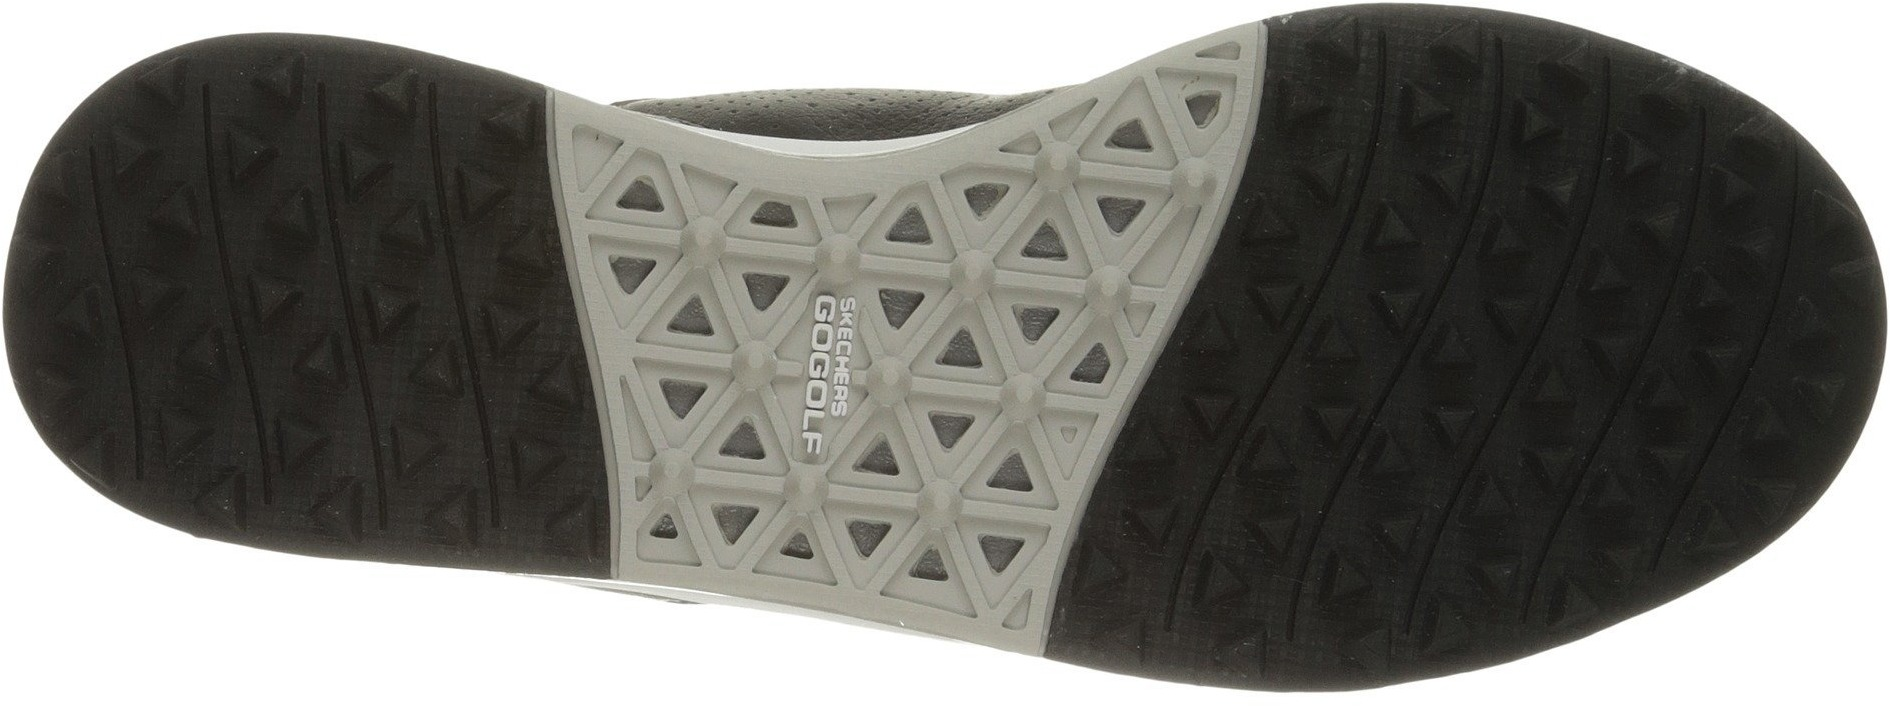text: (783, 361, 881, 467), (796, 286, 875, 358)
triangle: (1301, 39, 1627, 347), (49, 167, 377, 473), (1169, 343, 1471, 634), (906, 181, 1174, 493), (388, 122, 655, 411), (1487, 353, 1736, 569), (1638, 147, 1821, 339)
